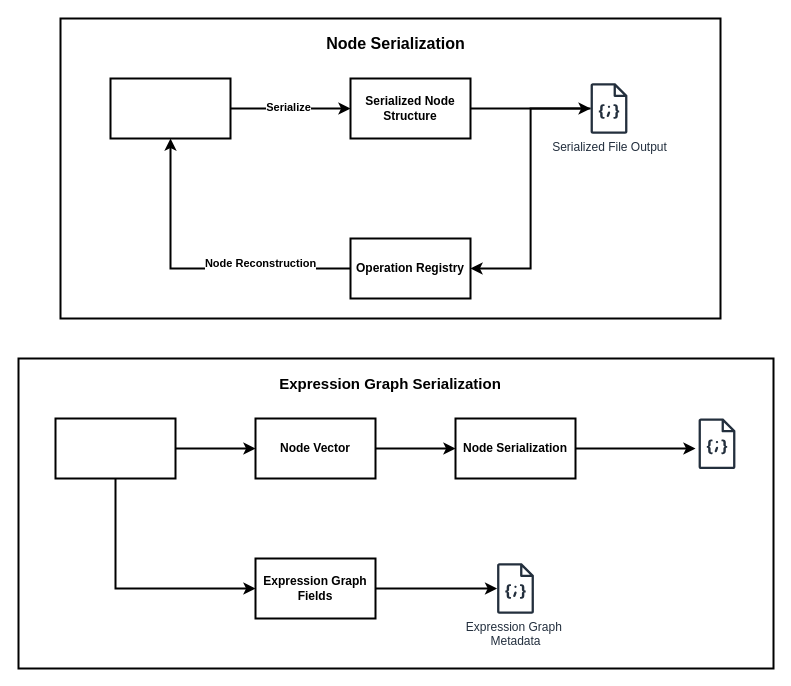
The diagram is 791 pixels wide and 686 high, and some of its shapes have lost their labels. The centre of each missing label's shape, as x and y in pixels:
"Expression Graph" belongs at (x=115, y=448).
"Node Instance" belongs at (x=170, y=108).
"Serialized File Nodes" belongs at (x=716, y=443).
